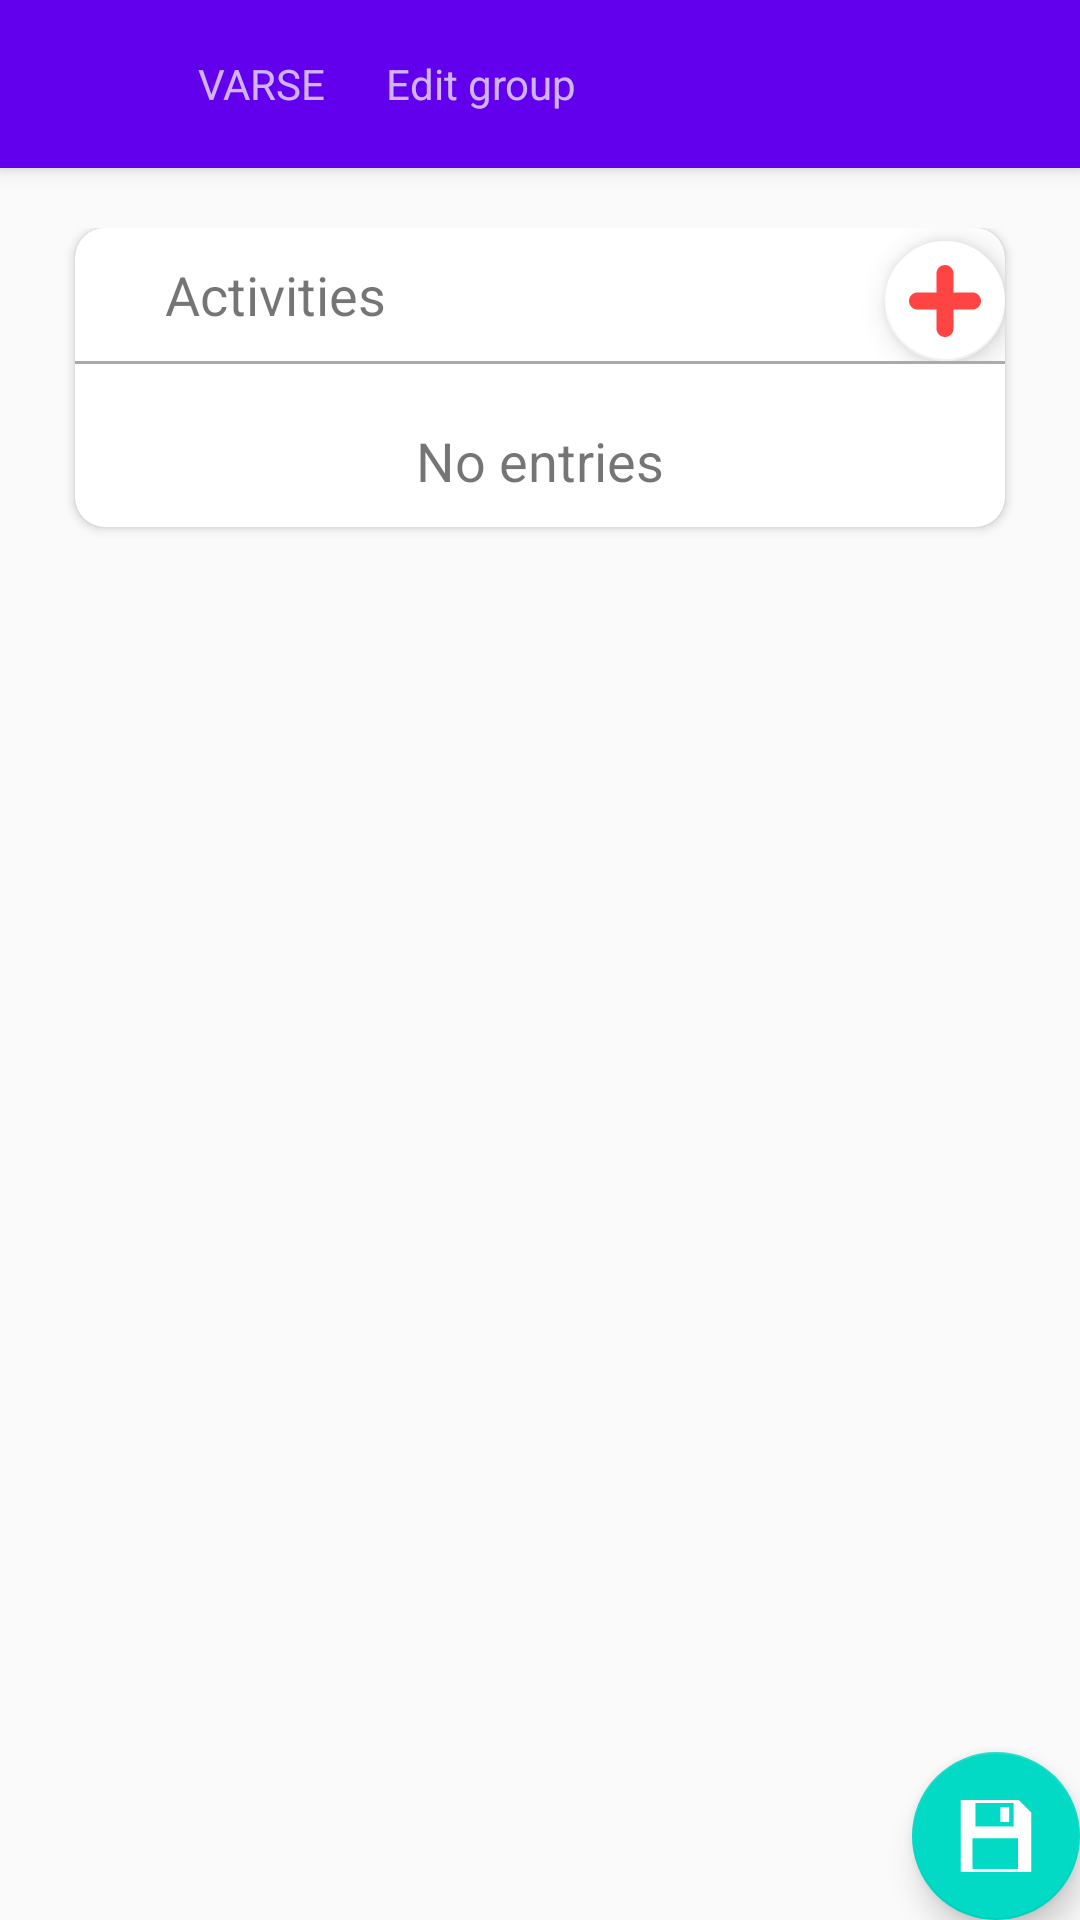

Icons on this 1080*1920 Android screen, each with its box as (left=x1, top=y1, right=x2, bottom=y2):
Add activity: (left=909, top=265, right=1003, bottom=337)
save: (left=912, top=1752, right=1080, bottom=1920)
